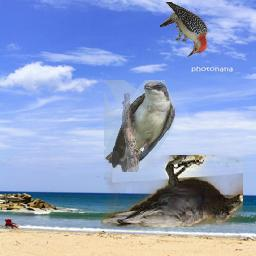Crow: (101, 155, 243, 227)
Swallow: (105, 80, 176, 172)
Woodpecker: (160, 3, 208, 58)
